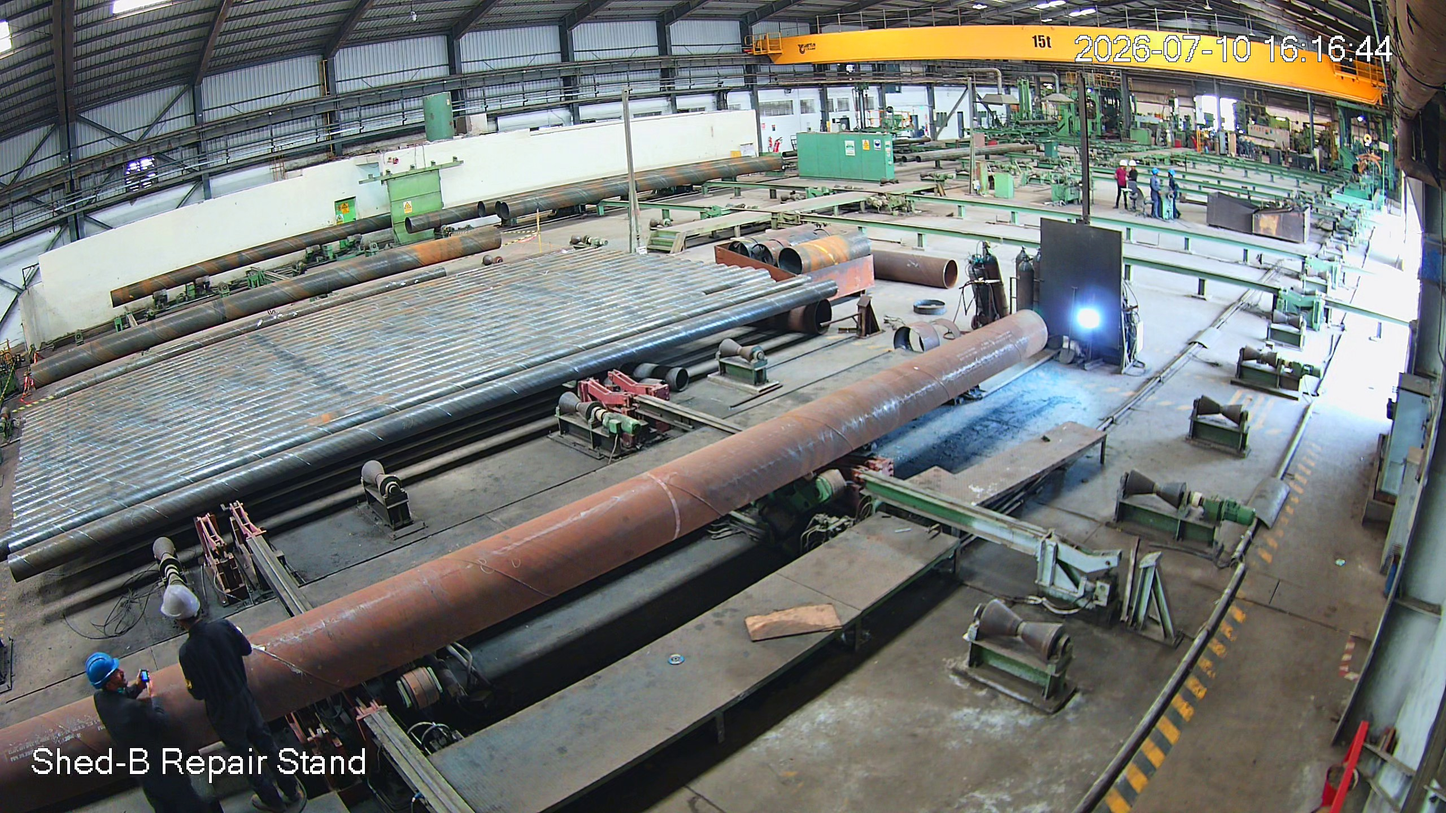Helmet: (158, 581, 217, 646), (81, 636, 133, 708), (1149, 166, 1161, 184), (1117, 159, 1127, 172), (1165, 167, 1175, 179), (1128, 159, 1137, 170)
Person: (169, 578, 301, 813), (78, 646, 211, 813), (1167, 168, 1184, 223), (1112, 160, 1128, 211), (1149, 167, 1163, 221), (1128, 160, 1138, 187)
